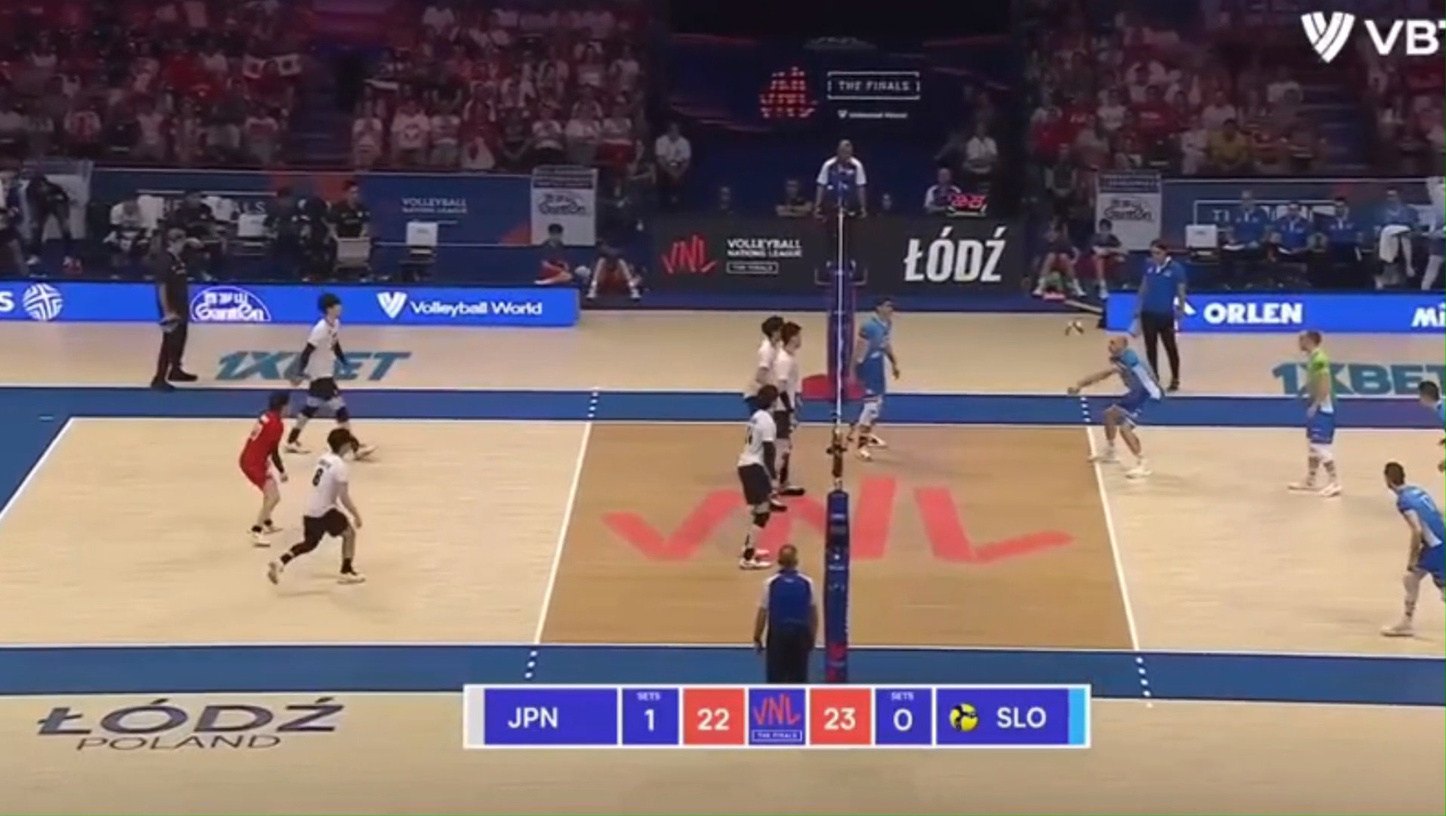ball: (1064, 319, 1084, 335)
player: (1068, 335, 1164, 478), (1383, 462, 1445, 636), (1290, 330, 1340, 496), (848, 298, 899, 459), (1418, 380, 1445, 424), (1438, 457, 1445, 472), (1440, 437, 1445, 448)
player 1: (268, 427, 364, 583), (285, 293, 351, 453), (737, 385, 785, 568), (239, 392, 288, 545), (771, 323, 805, 497), (745, 315, 784, 410), (344, 442, 372, 458)
referee: (753, 545, 819, 683), (814, 140, 867, 308), (151, 228, 198, 390), (1135, 240, 1185, 391)
